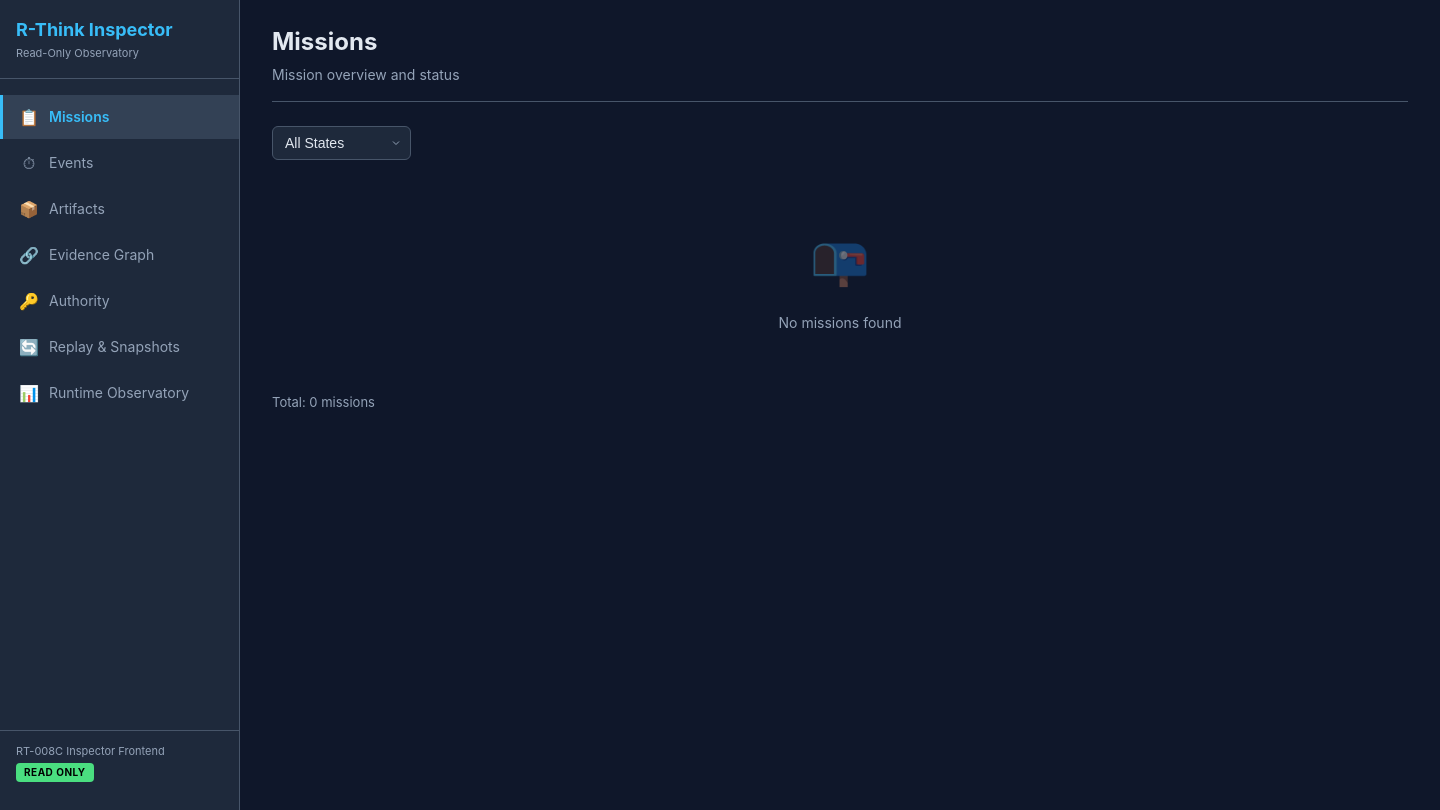
Navigation › navigates to Artifacts view on click
Expected: the heading "Missions" is shown, [272,27,377,56]
Step 1. Click the link "📦 Artifacts" → click(62, 208), box [19,198,105,218]
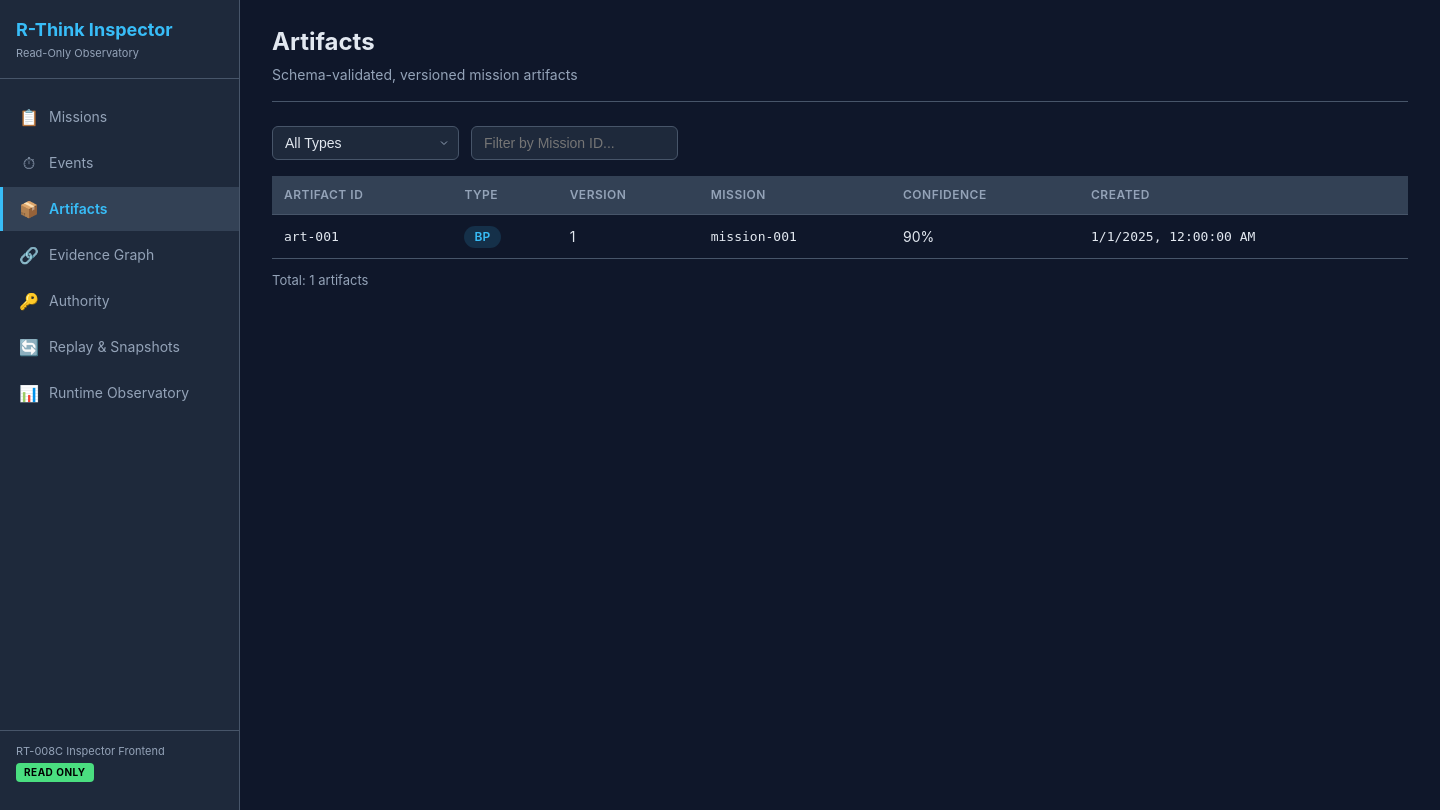
Now the text "Schema-validated, versioned mission artifacts" is shown, box [272,64,578,85]
